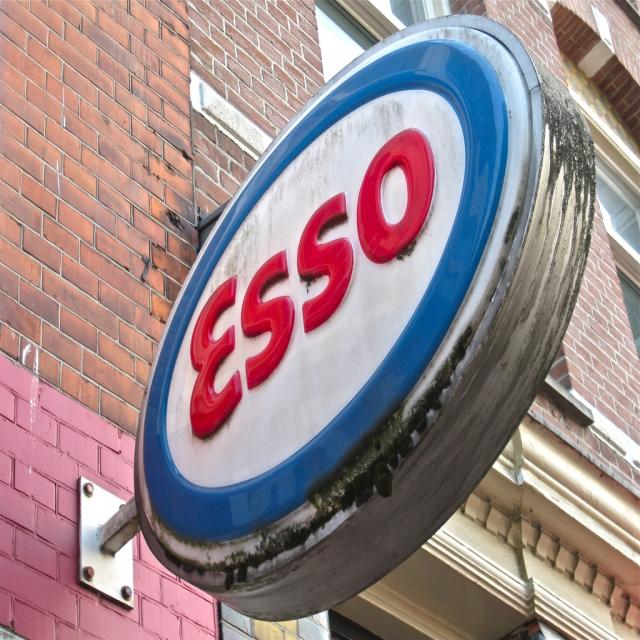esso: (140, 35, 509, 539)
